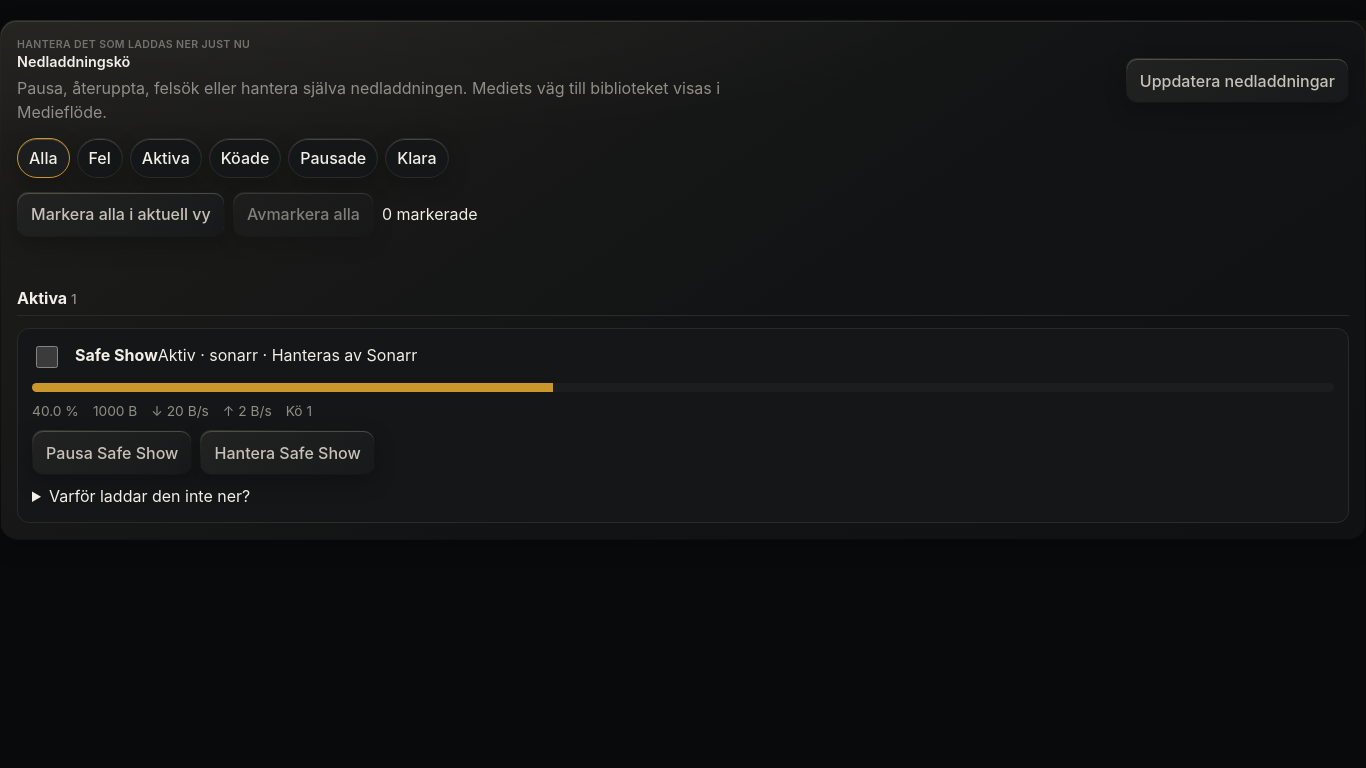
Test: lists safe downloads with Swedish filters and ARR warning
This screenshot has width=1366, height=768.
Expected: the text "Safe Show" is shown, [75,345,158,365]
Expected: the text "Aktiv · sonarr · Hanteras av Sonarr" is shown, [158,345,417,365]
Click the button "Pausade" at x=333, y=158, box [288,138,378,178]
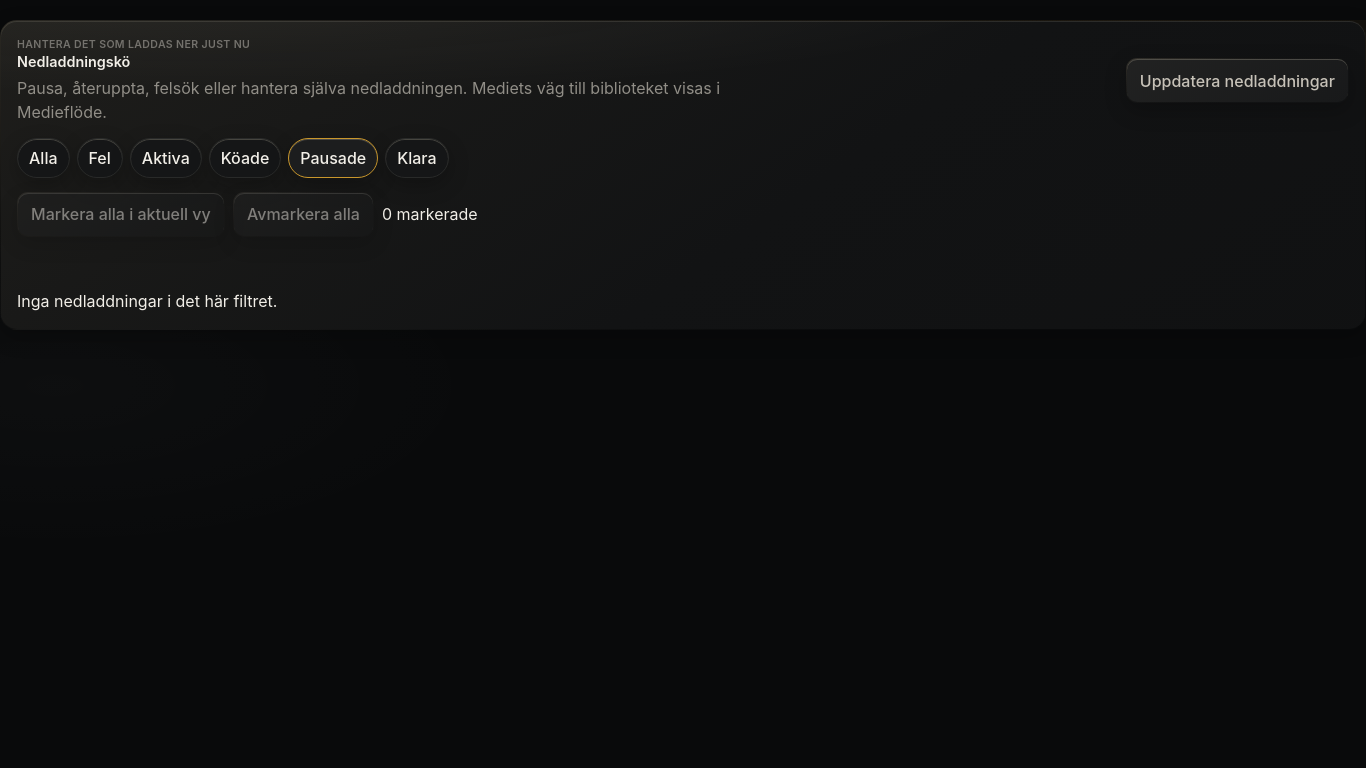
Expected: the text "Inga nedladdningar i det här filtret." is shown, [17,291,278,311]
